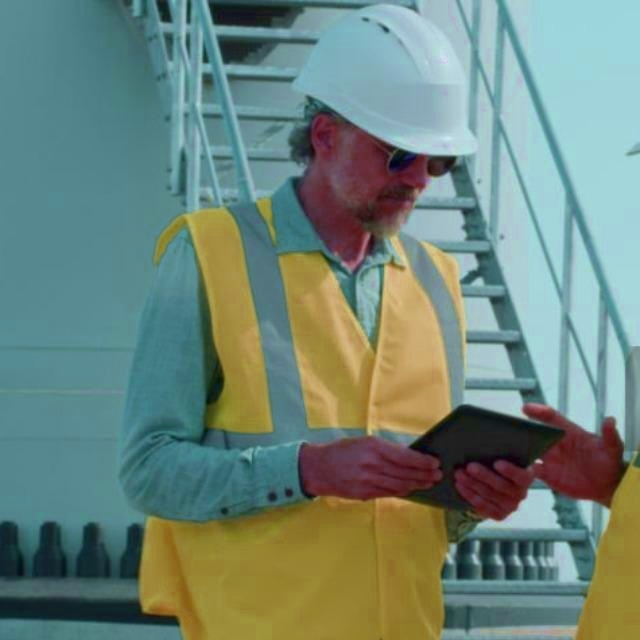Con_Casco: (287, 4, 479, 229)
Con_Chaleco: (153, 199, 478, 640)
